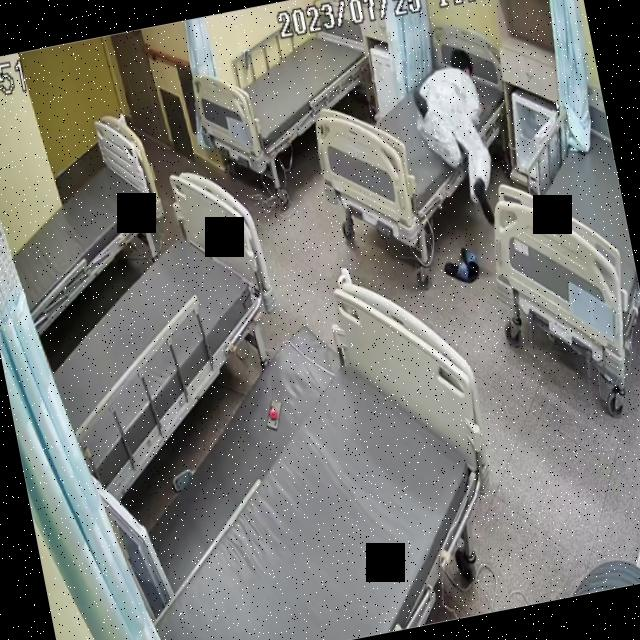bed: (98, 273, 511, 640), (16, 166, 301, 498), (467, 84, 640, 397), (298, 23, 526, 239), (0, 108, 180, 332), (188, 4, 385, 179)
danger: (404, 47, 502, 233)
patient: (404, 46, 503, 232)
